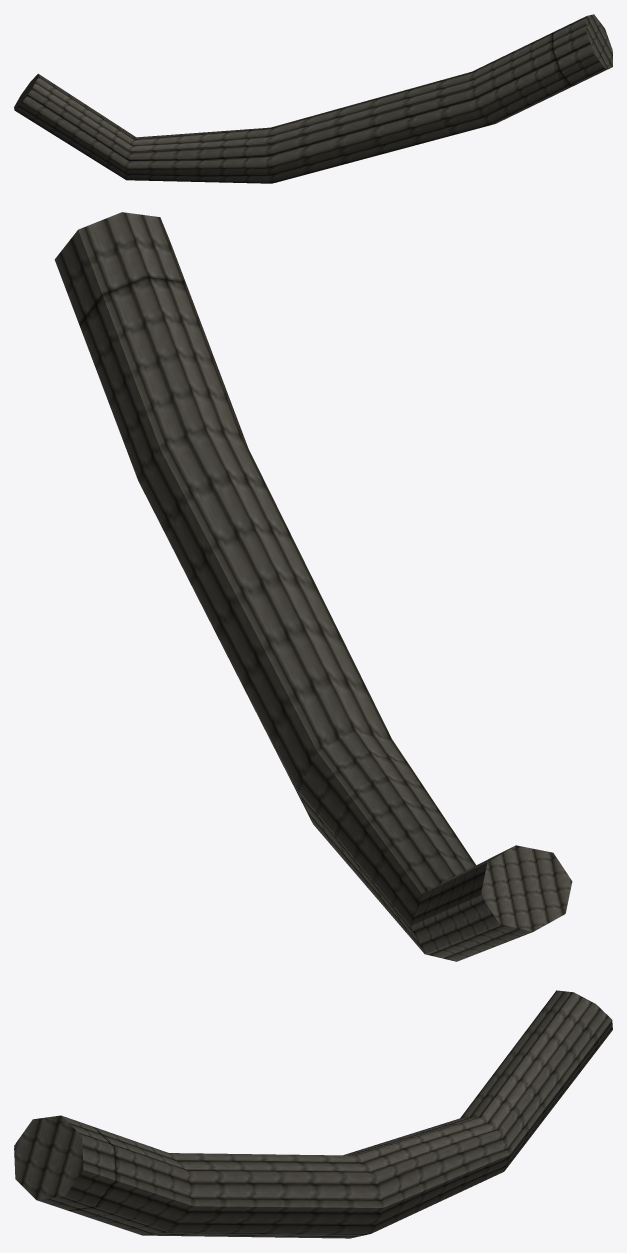
The model's file is castle_break3.fbx.
3 views of the same model, one above another, from view 1: azimuth 30°, elevation 25°; view 2: azimuth 150°, elevation 25°; view 3: azimuth 270°, elevation 25° (orthographic). The views are drawn at different scales.
Visible parts, largest first — view 1: polySurface50; view 2: polySurface50; view 3: polySurface50.
Part boxes in pixels (<box>): polySurface50: <box>14,14,612,183</box>; polySurface50: <box>54,212,572,961</box>; polySurface50: <box>14,990,612,1238</box>.
Size of the model in its own units: 0.9437 by 0.4084 by 0.7887.
